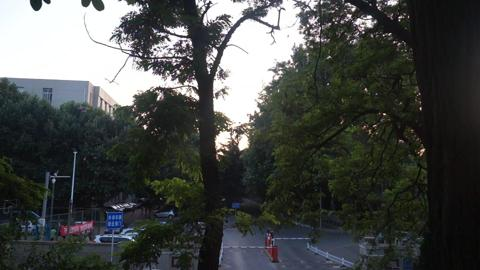UAV: (78, 106, 91, 112)
